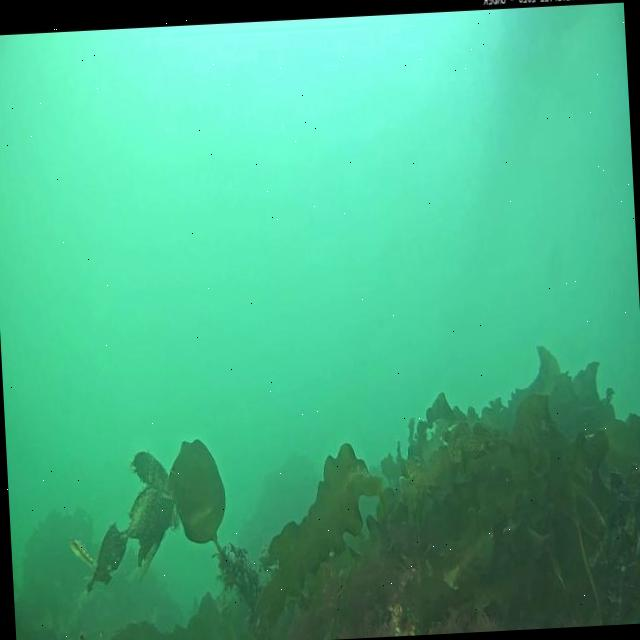fish: (69, 539, 93, 566)
